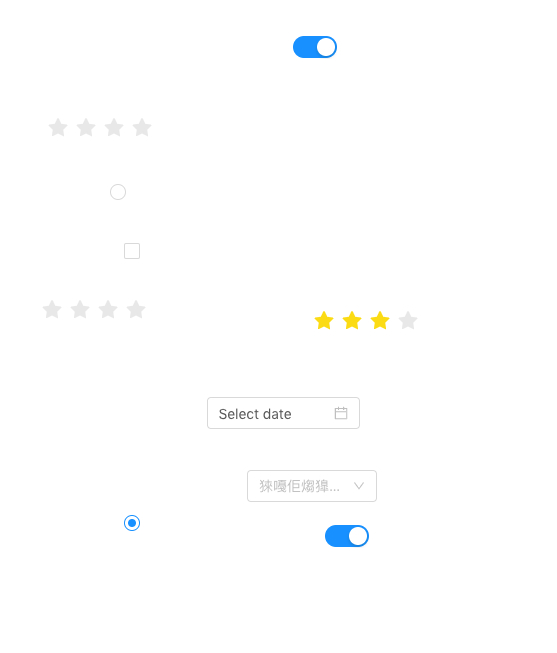Checkbox: (124, 240, 140, 261)
DatePicker: (207, 397, 360, 429)
Radio: (124, 512, 140, 532), (110, 181, 126, 201)
Rate: (42, 293, 162, 325), (314, 304, 434, 336), (48, 111, 168, 143)
Select: (247, 470, 377, 502)
Switch: (293, 35, 337, 59), (325, 524, 369, 548)
